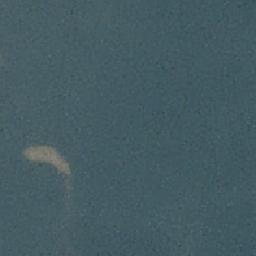debris: (23, 146, 58, 161), (54, 158, 71, 174)
